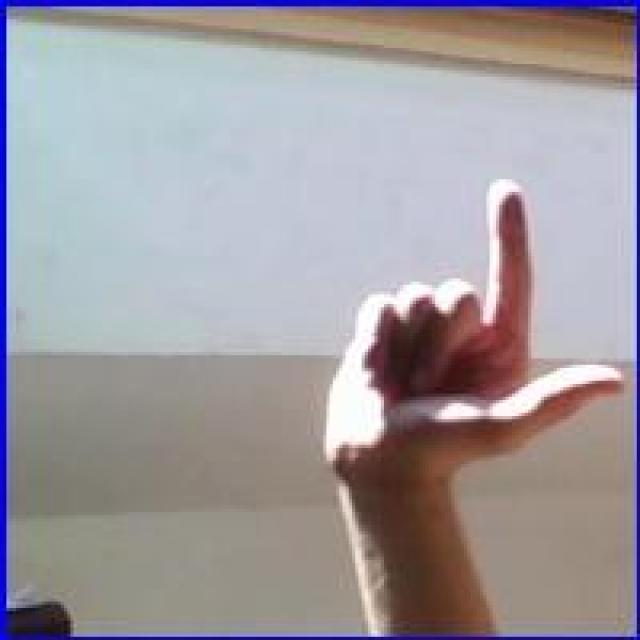L: (312, 172, 629, 506)
